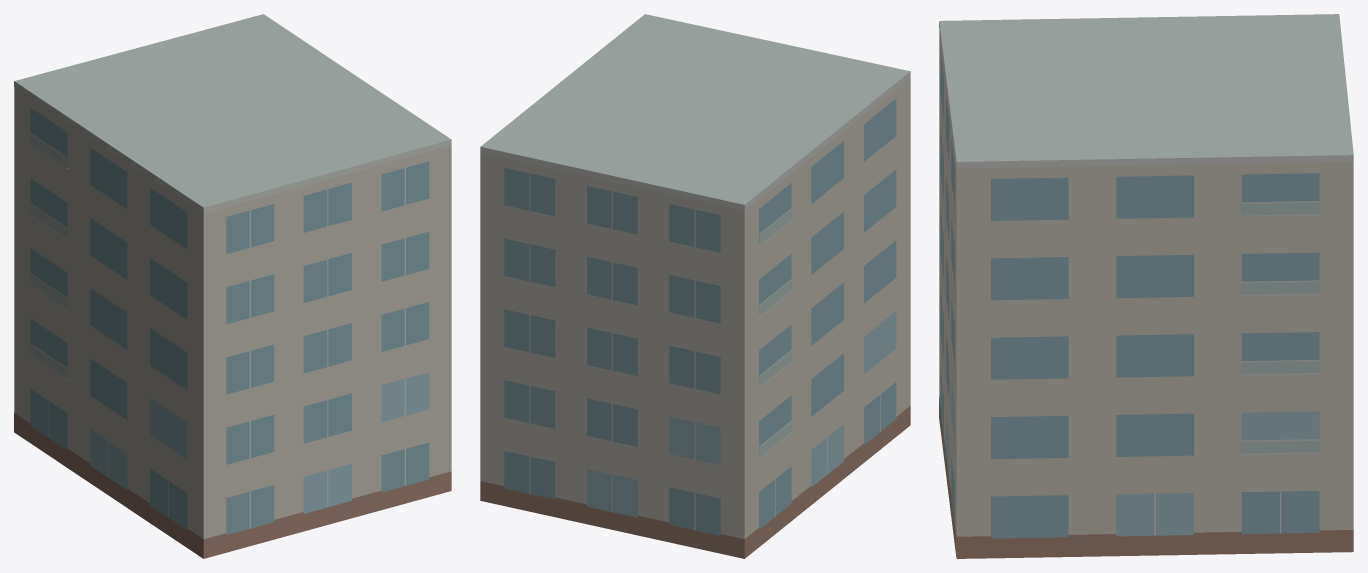
File: survey-upis-32966966.glb
3 views of the same model, side by side, from view 1: azimuth 30°, elevation 25°; view 2: azimuth 150°, elevation 25°; view 3: azimuth 270°, elevation 25° (orthographic). The views are drawn at different scales.
Visible parts, largest first — view 1: survey-upis-32966966.tmp; view 2: survey-upis-32966966.tmp; view 3: survey-upis-32966966.tmp.
Part boxes in pixels (x1,y1,x2,y2): survey-upis-32966966.tmp: [14, 14, 451, 558]; survey-upis-32966966.tmp: [480, 14, 910, 558]; survey-upis-32966966.tmp: [939, 14, 1353, 558].
Bounding box in the file's own units: 11.75 × 14.7 × 13.92.
